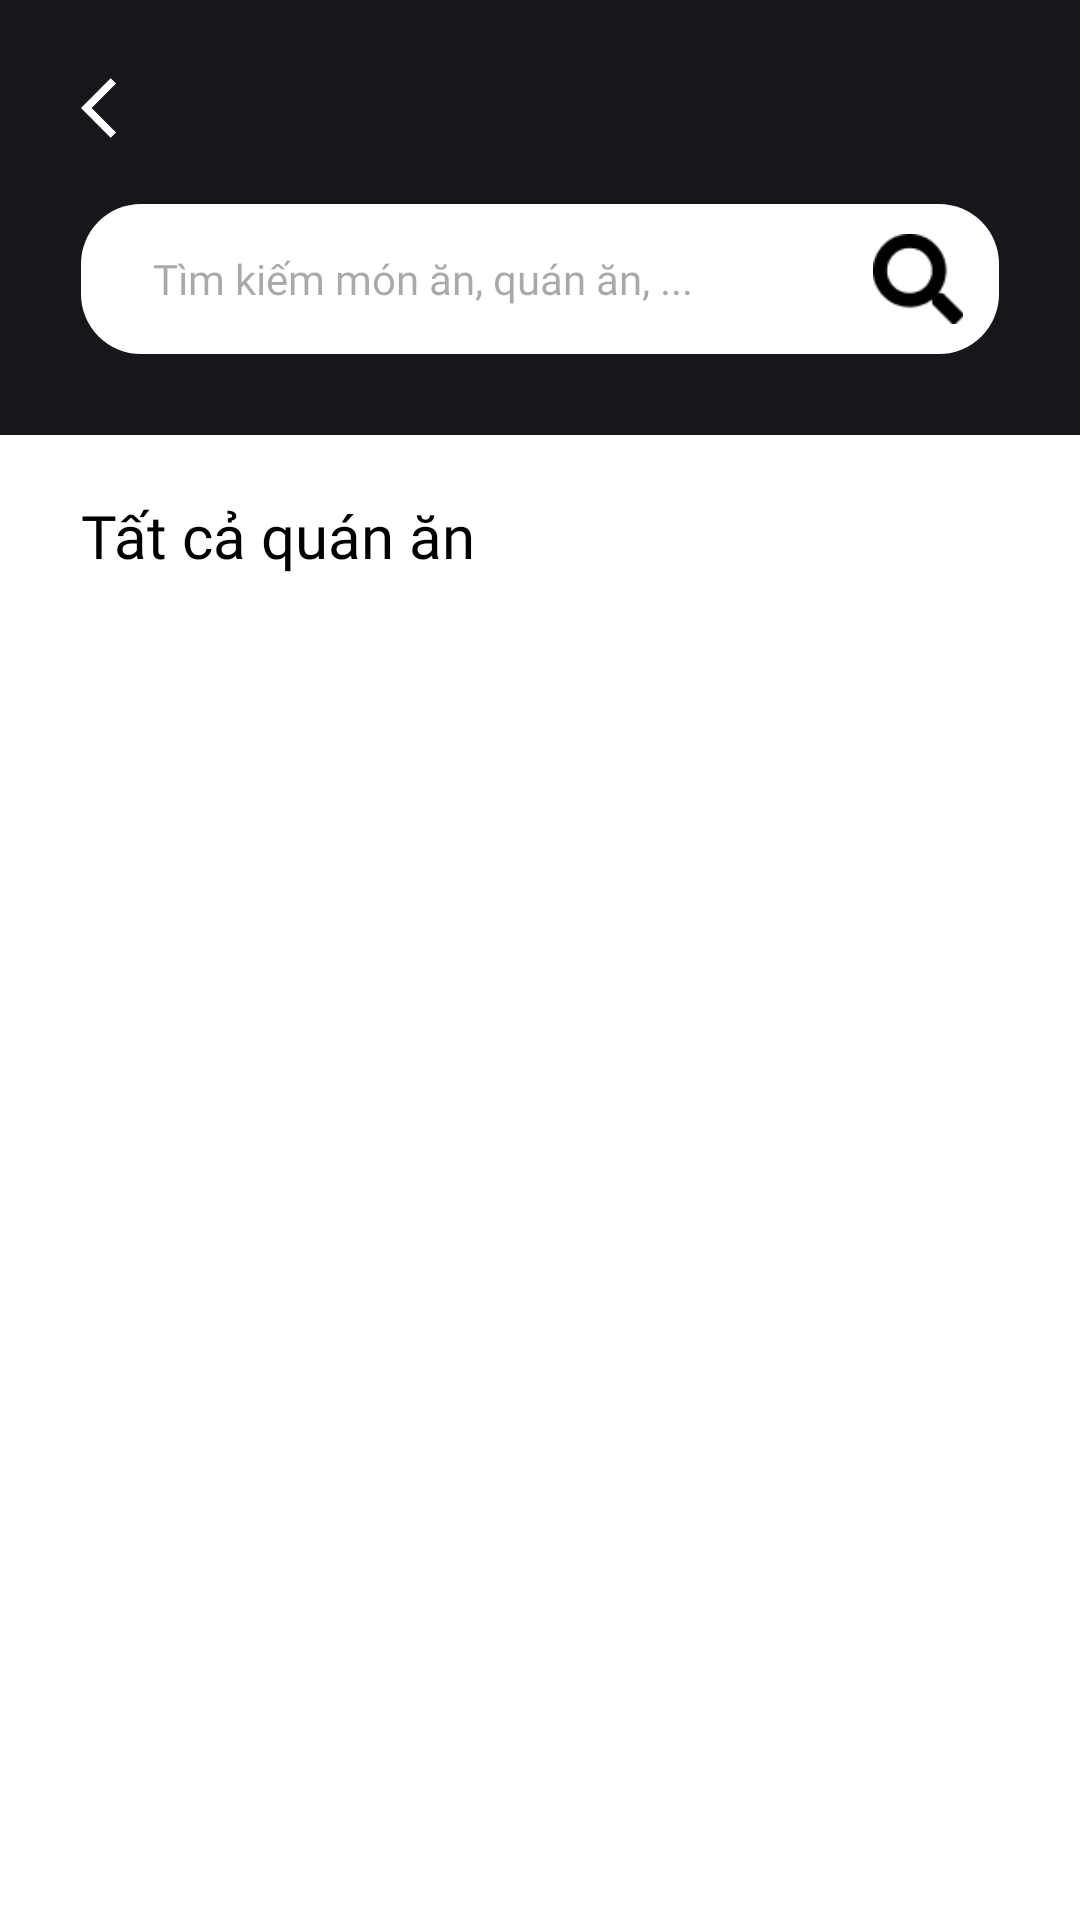

Icon bounding boxes for this 1080x1920 phone screenshot, format {"x1": x1, "y1": y1, "x2": x2, "y2": y2}:
arrow back: {"x1": 81, "y1": 78, "x2": 116, "y2": 138}
search: {"x1": 873, "y1": 234, "x2": 963, "y2": 324}
